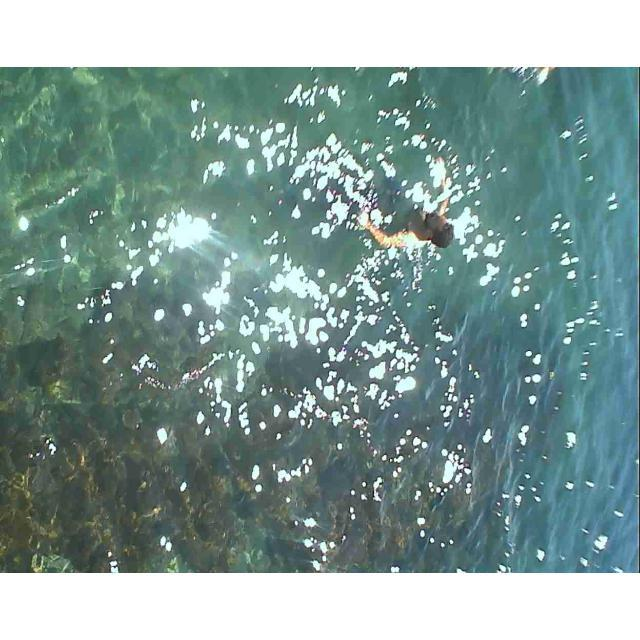human: (371, 156, 458, 254)
